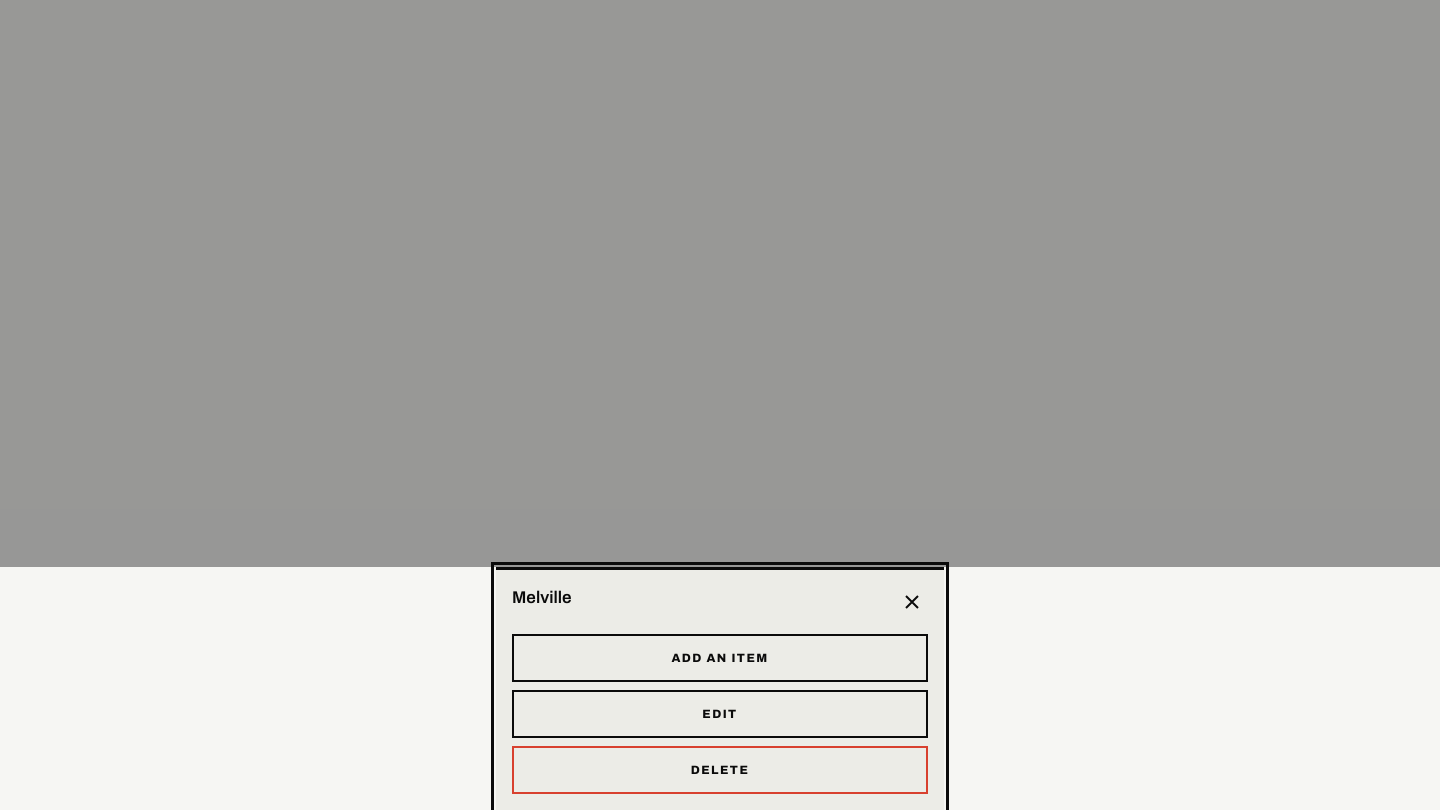
Test case: CollectionActionsSheet › says the items survive, because deleting a collection orphans rather than deletes
This screenshot has width=1440, height=810.
Step 1. Click the button "Delete" → click(720, 770), box [512,746,928,794]
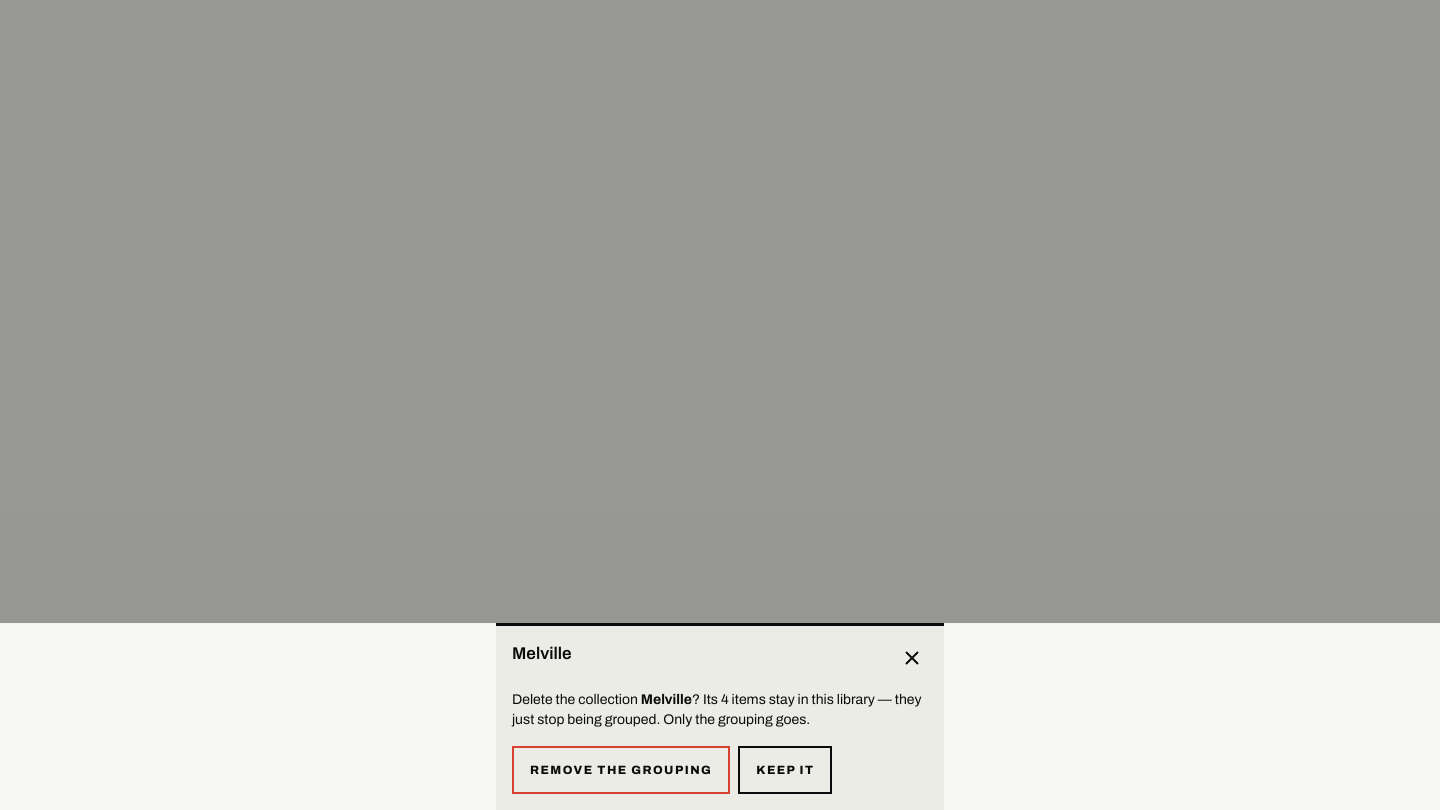
Check: the text "4 items stay in this library" is shown, box [512,690,928,730]
Check: the button "Remove the grouping" is shown, box [512,746,730,794]
